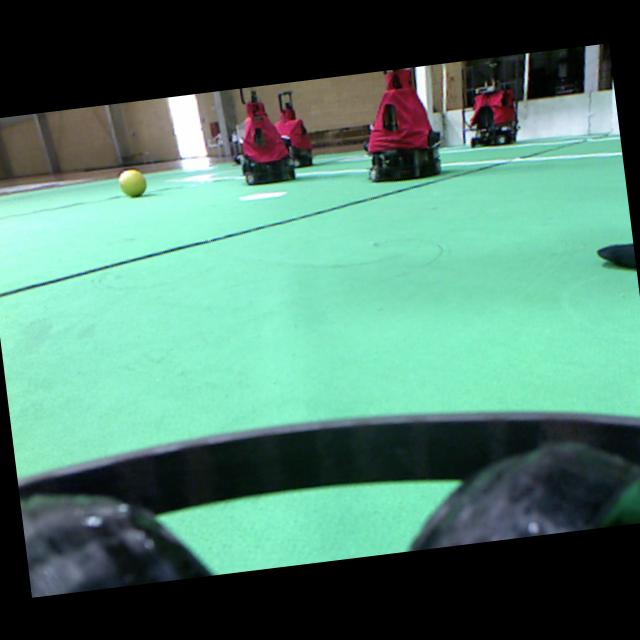ball: (118, 169, 145, 196)
